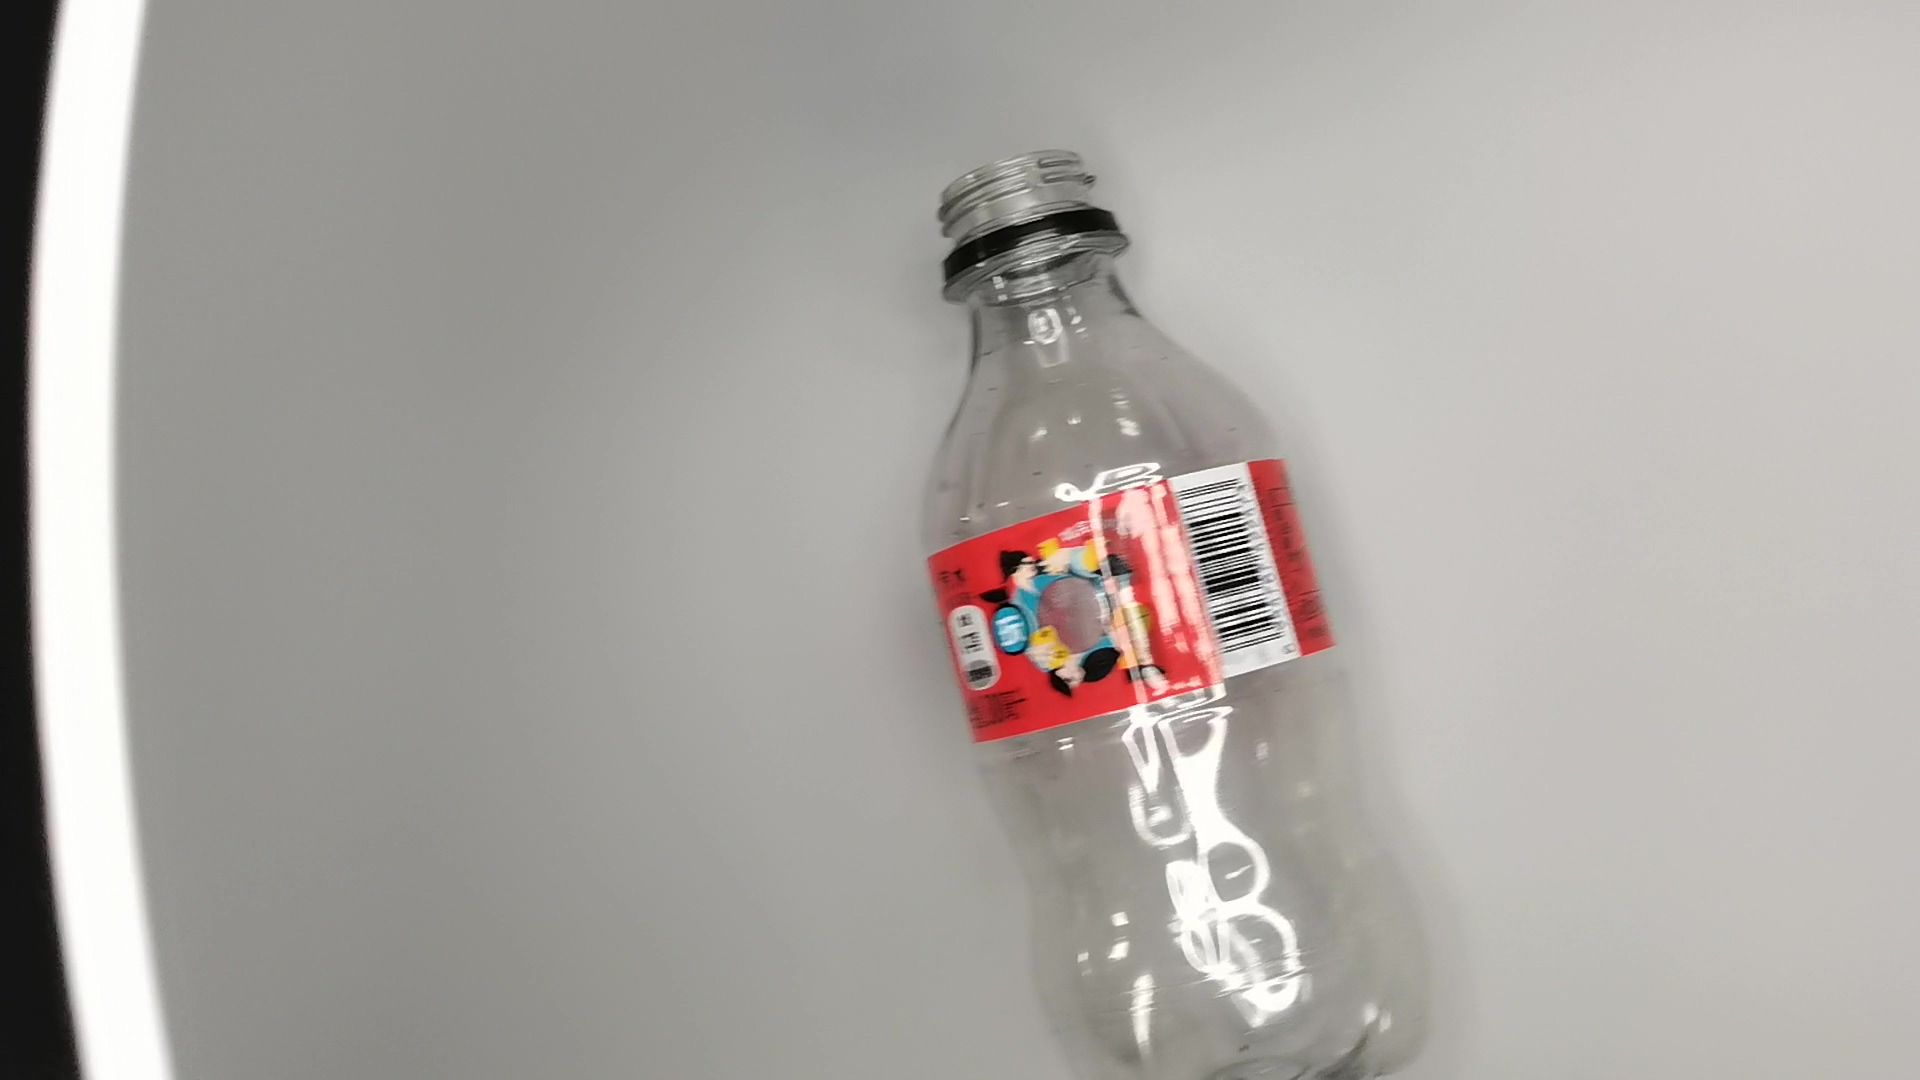bottle: (899, 141, 1461, 1080)
